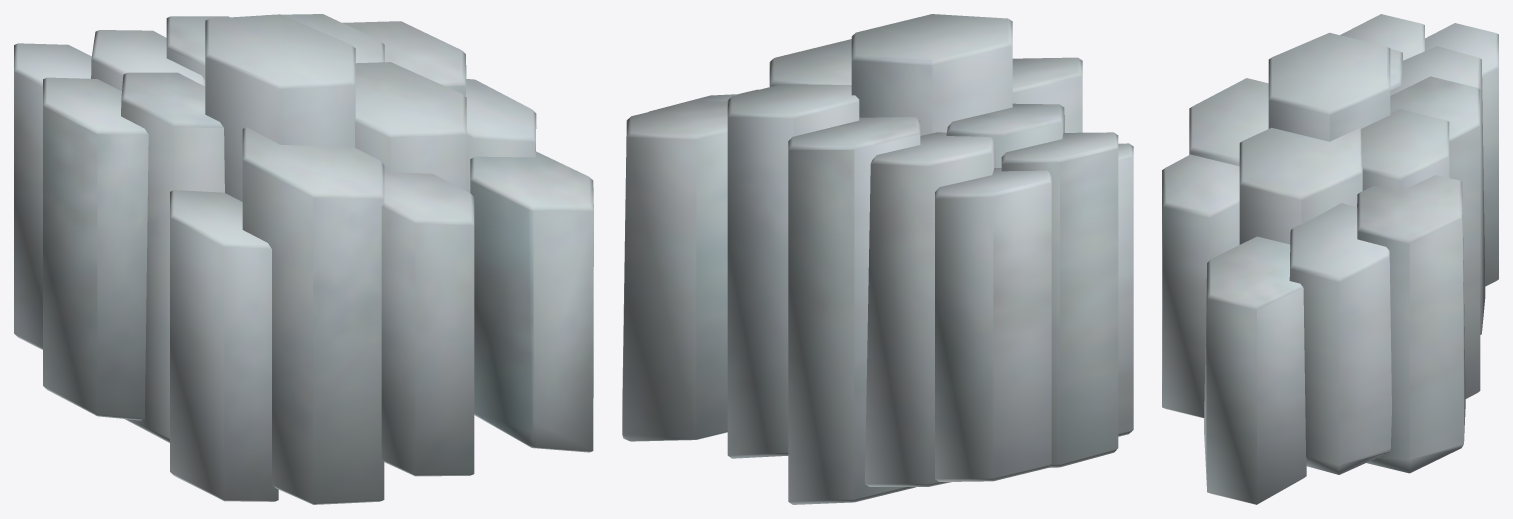
File: P_RockHexic_RockSlanted08.obj
The picture shows the model from 3 angles, left to right: view 1: azimuth 30°, elevation 25°; view 2: azimuth 150°, elevation 25°; view 3: azimuth 270°, elevation 25°; orthographic projection. The views are drawn at different scales.
Bounding box in the file's own units: 15.49 × 13.13 × 11.79.
